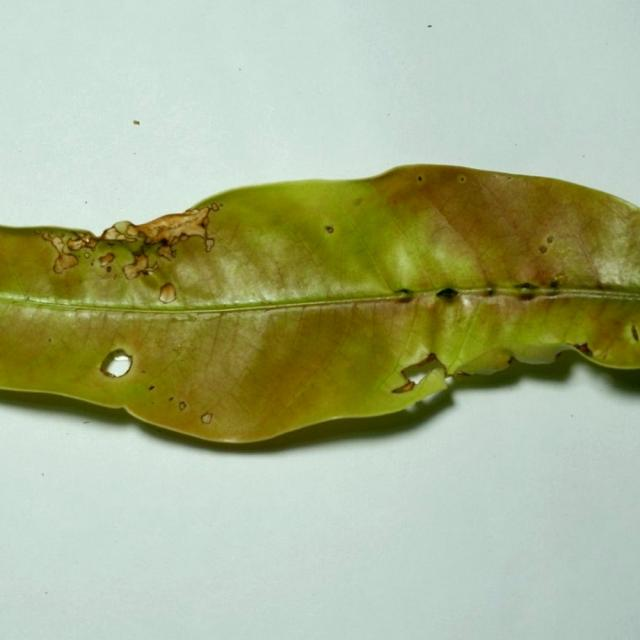Anthracnose: (125, 204, 219, 248), (393, 352, 446, 393), (95, 345, 139, 386), (48, 241, 91, 274), (121, 251, 152, 281), (100, 223, 140, 242), (65, 233, 98, 252), (537, 234, 557, 259), (407, 353, 438, 368), (390, 379, 417, 394), (158, 283, 177, 304), (48, 235, 67, 254), (624, 322, 639, 345), (435, 288, 459, 300), (397, 288, 417, 302), (110, 349, 130, 361), (575, 342, 592, 355), (550, 274, 567, 287), (99, 252, 115, 265), (517, 282, 539, 290), (518, 292, 536, 301), (200, 412, 213, 424), (592, 349, 605, 360), (549, 279, 560, 289), (485, 287, 497, 296), (160, 238, 171, 247), (324, 225, 334, 234), (178, 401, 187, 411), (353, 197, 363, 206), (539, 244, 548, 253), (458, 174, 467, 183), (595, 283, 605, 291), (187, 314, 198, 321), (211, 203, 219, 211), (547, 236, 554, 243), (417, 175, 423, 182), (168, 396, 174, 402), (218, 202, 224, 207), (25, 296, 31, 301), (506, 175, 512, 179), (48, 337, 52, 343)
Mango: (0, 165, 639, 451)
